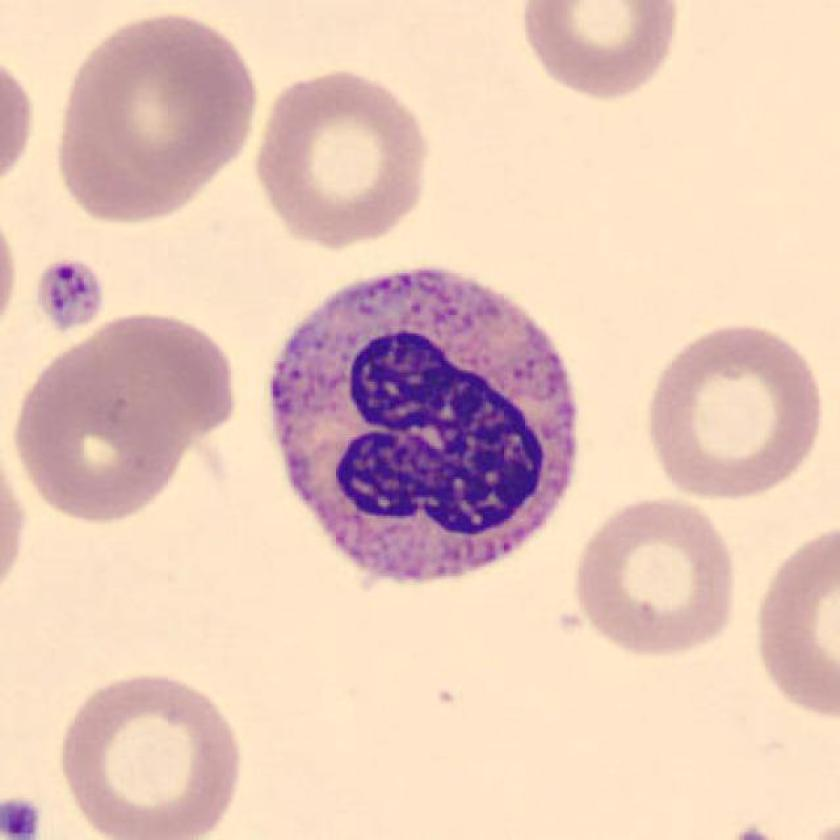neutrophil: (272, 269, 575, 580)
